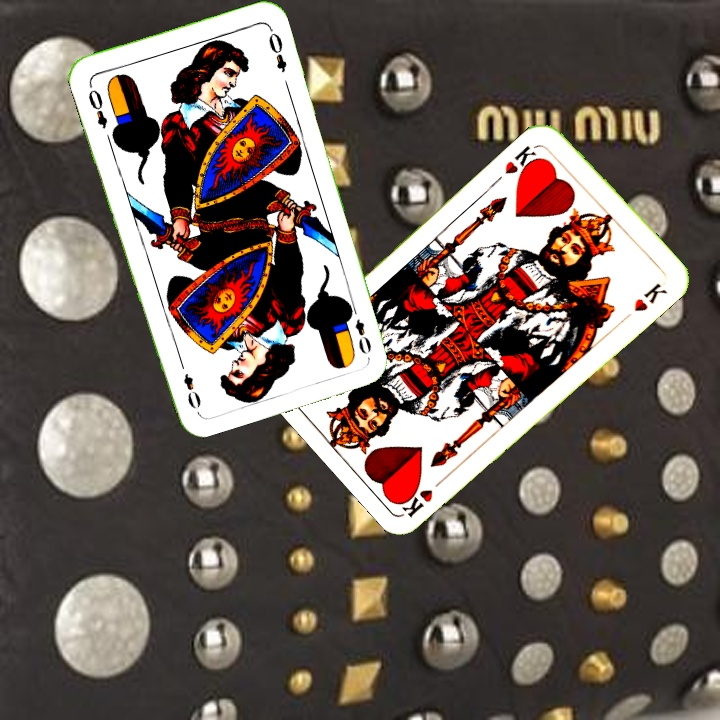EO: (344, 301, 374, 357), (84, 85, 110, 131)
HK: (398, 472, 450, 520), (501, 140, 544, 182)
